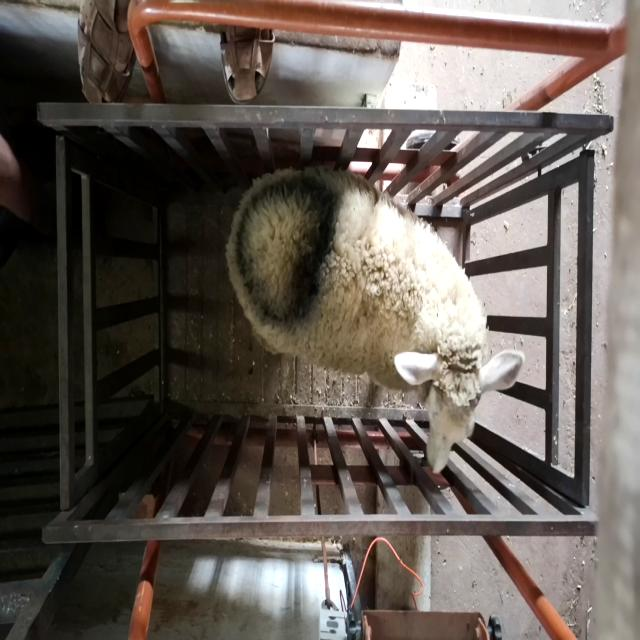sheep: (225, 163, 524, 474)
